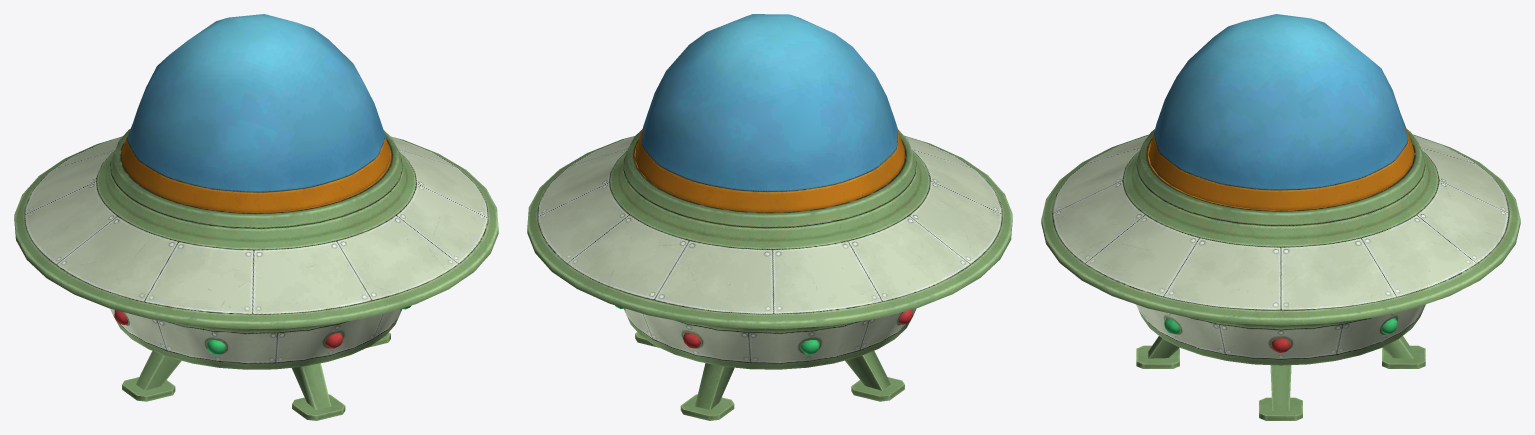
The model's file is UFO_C.dae.
3 renders of one model, left to right at view 1: azimuth 30°, elevation 25°; view 2: azimuth 150°, elevation 25°; view 3: azimuth 270°, elevation 25°, orthographic.
Visible parts, largest first — view 1: Flying_Saucer_C; view 2: Flying_Saucer_C; view 3: Flying_Saucer_C.
Boxes of the visible parts, x1,y1,x2,y2 form: Flying_Saucer_C: [14, 14, 498, 420]; Flying_Saucer_C: [527, 14, 1012, 420]; Flying_Saucer_C: [1041, 14, 1520, 420].
Size of the model in its own units: 0.5 by 0.3844 by 0.5.
1 material, 1 textured.
